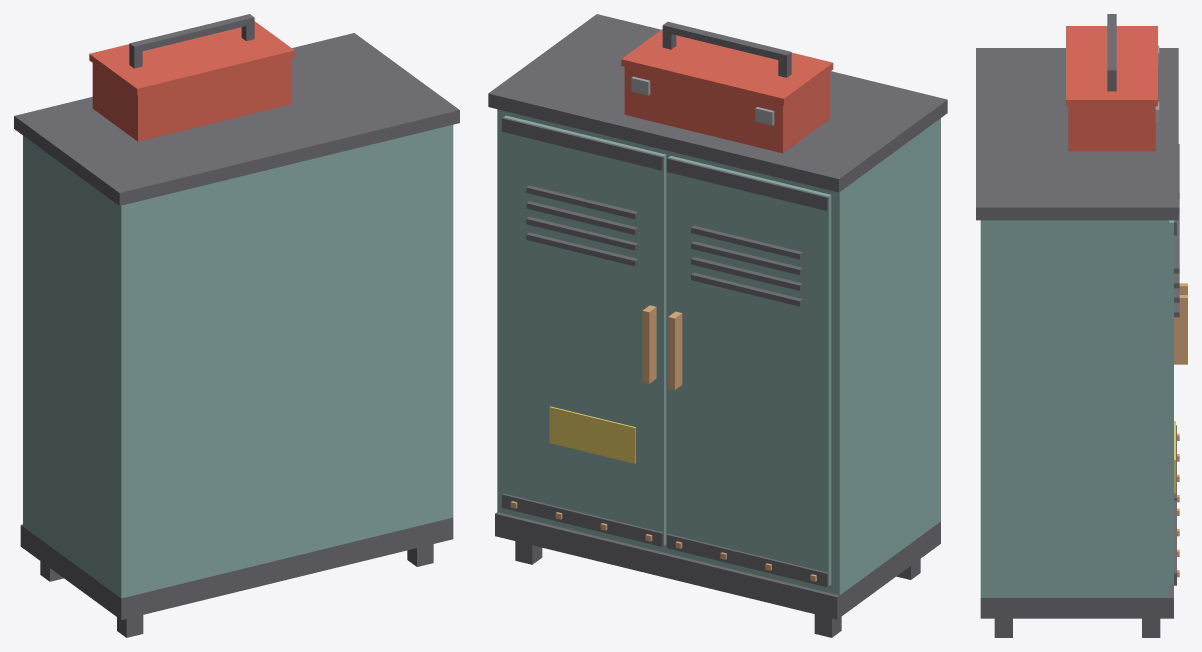
Rendered from tool_locker.glb.
3 views of the same model, side by side, from view 1: azimuth 30°, elevation 25°; view 2: azimuth 150°, elevation 25°; view 3: azimuth 270°, elevation 25° (orthographic). The views are drawn at different scales.
Parts seen in each view (by area): view 1: ToolLocker; view 2: ToolLocker; view 3: ToolLocker.
Part boxes in pixels (<box>): ToolLocker: <box>14,14,459,637</box>; ToolLocker: <box>488,14,947,637</box>; ToolLocker: <box>976,14,1187,637</box>.
Size of the model in its own units: 0.82 by 1.22 by 0.46.
